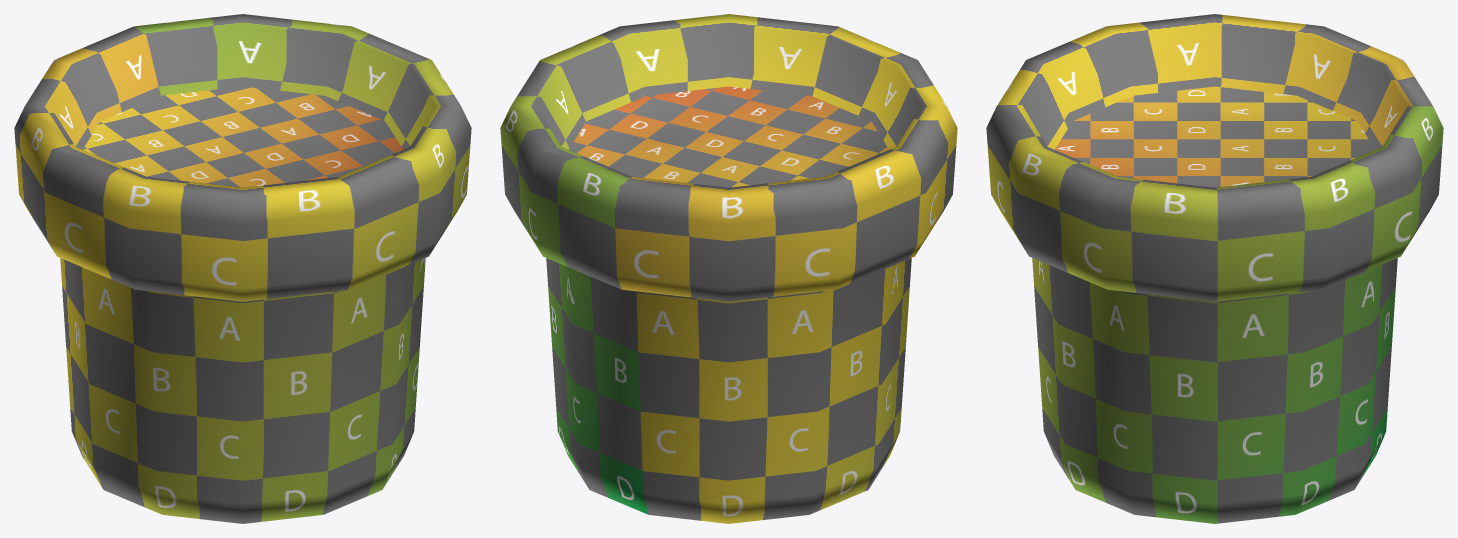
File: md_flowerpot_poly_v2.fbx
3 renders of one model, left to right at view 1: azimuth 30°, elevation 25°; view 2: azimuth 150°, elevation 25°; view 3: azimuth 270°, elevation 25°, orthographic.
Parts seen in each view (by area): view 1: pCylinder1; view 2: pCylinder1; view 3: pCylinder1.
Boxes of the visible parts, x1,y1,x2,y2 form: pCylinder1: [14, 14, 471, 523]; pCylinder1: [500, 14, 957, 523]; pCylinder1: [986, 14, 1443, 523].
Size of the model in its own units: 0.237 by 0.2 by 0.237.
